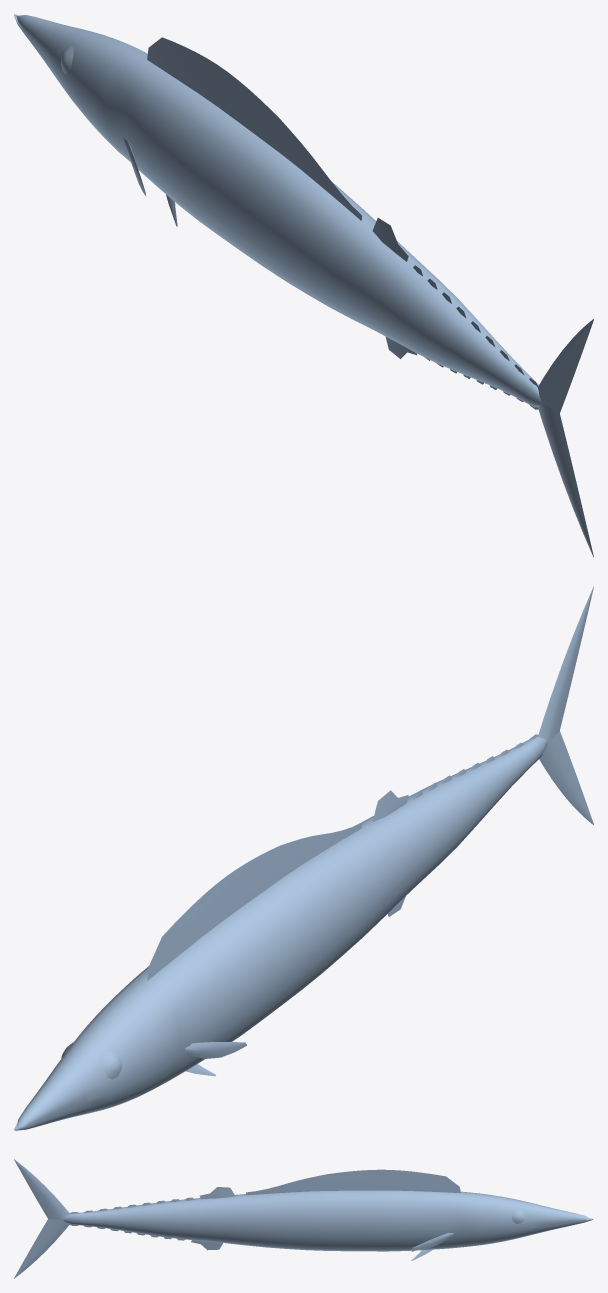
Rendered from wahoo_lo.glb.
The picture shows the model from 3 angles, top to bottom: view 1: azimuth 30°, elevation 25°; view 2: azimuth 150°, elevation 25°; view 3: azimuth 270°, elevation 25°; orthographic projection. The views are drawn at different scales.
Parts seen in each view (by area): view 1: wahoo_lo; view 2: wahoo_lo; view 3: wahoo_lo.
Part boxes in pixels (<box>): wahoo_lo: <box>14,14,593,557</box>; wahoo_lo: <box>14,586,593,1130</box>; wahoo_lo: <box>14,1159,593,1278</box>.
Bounding box in the file's own units: 0.1807 × 0.4091 × 1.8.
